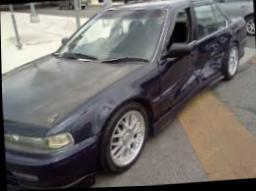Door: (158, 5, 200, 117), (199, 28, 233, 85)
